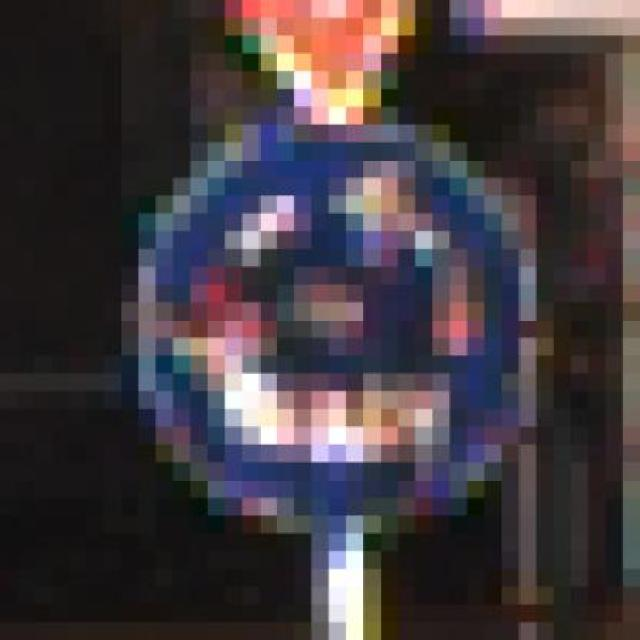Round-About: (69, 89, 588, 552)
